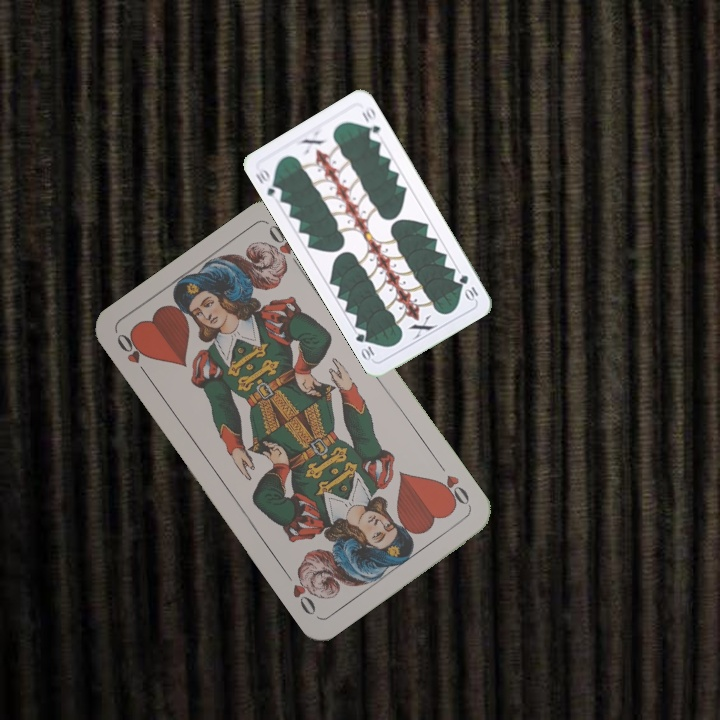G10: (251, 165, 285, 203), (455, 271, 481, 303)
HO: (432, 458, 473, 510), (112, 329, 153, 381)
